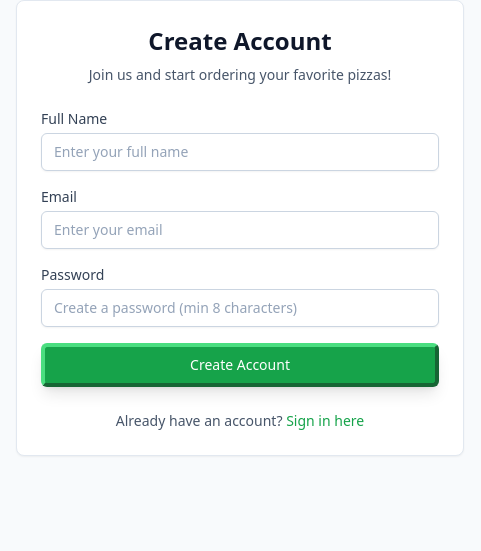
Scenario: RegisterPage › should display error message on registration failure
Type "John Doe" into the field labelled "Full Name" at [240, 152], box [41,133,439,171]
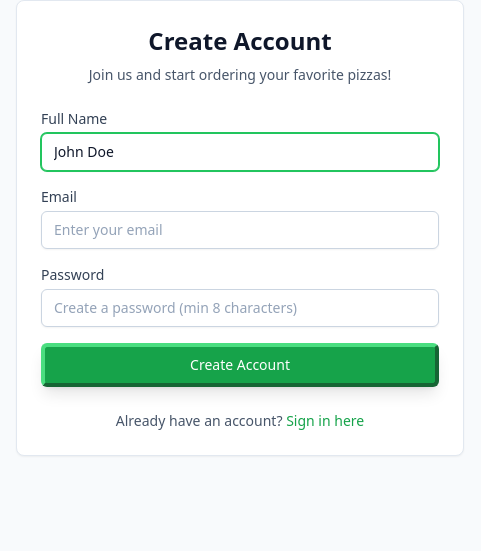
Type "john@example.com" into the field labelled "Email" at [240, 230], box [41,211,439,249]
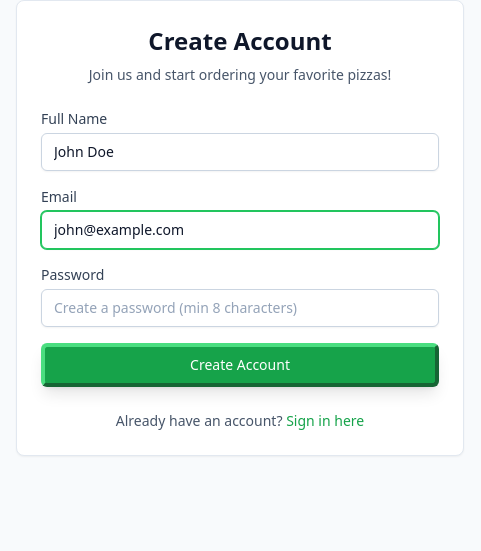
Type "password123" into the password field labelled "Password" at [240, 308], box [41,289,439,327]
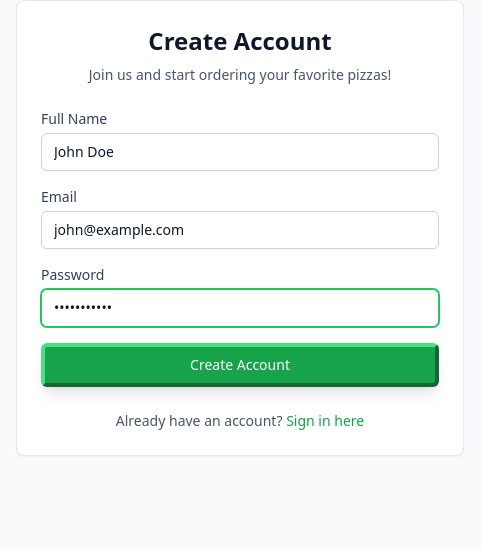
Click the button "Create Account" at [240, 365], box [41,343,439,387]
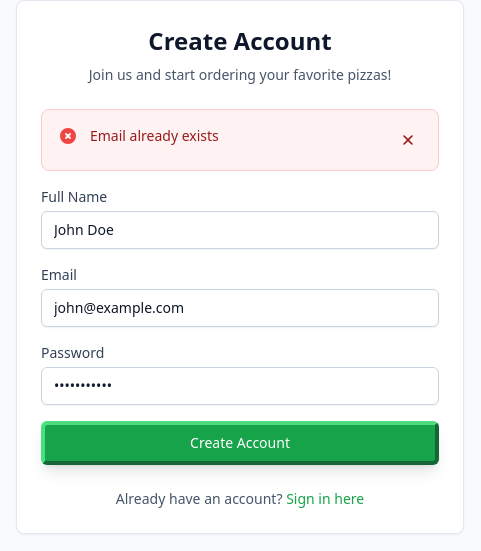
Expected: the message reads "Email already exists", [90,126,219,145]
